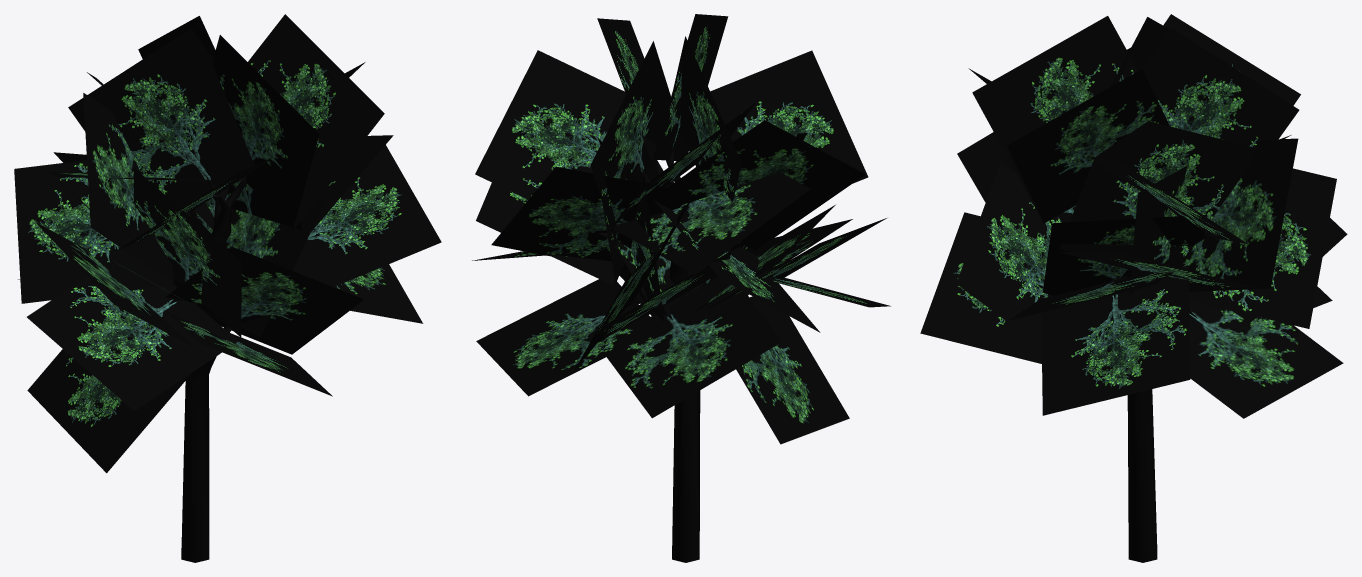
Rendered from tree57.glb.
The picture shows the model from 3 angles, left to right: view 1: azimuth 30°, elevation 25°; view 2: azimuth 150°, elevation 25°; view 3: azimuth 270°, elevation 25°; orthographic projection. The views are drawn at different scales.
Bounding box in the file's own units: 5.05 × 6.9 × 4.91.
2 materials, 1 textured.
